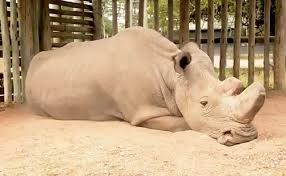Rhinoceros: (22, 26, 267, 149)
